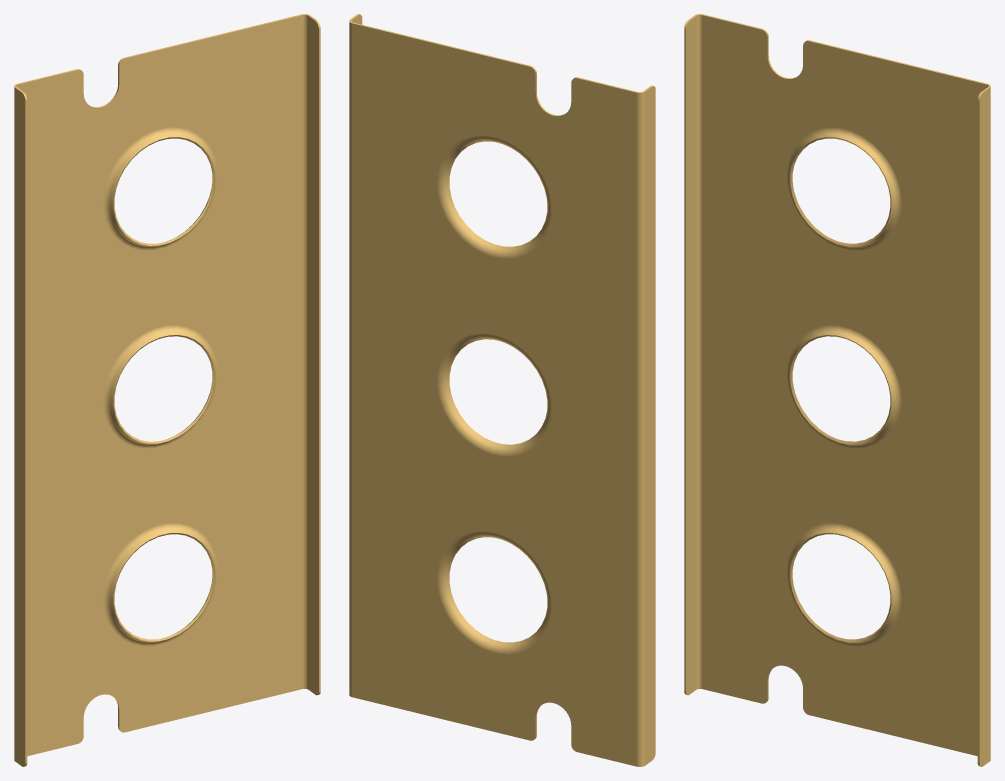
Rendered from Sheet Metal Design 2.fbx.
The picture shows the model from 3 angles, left to right: view 1: azimuth 30°, elevation 25°; view 2: azimuth 150°, elevation 25°; view 3: azimuth 330°, elevation 25°; orthographic projection.
Visible parts, largest first — view 1: Body1; view 2: Body1; view 3: Body1.
Boxes of the visible parts, left/top/right/bottom form: Body1: left=14, top=14, right=320, bottom=766; Body1: left=349, top=14, right=655, bottom=766; Body1: left=684, top=14, right=990, bottom=766.
Size of the model in its own units: 250 by 545 by 20.
